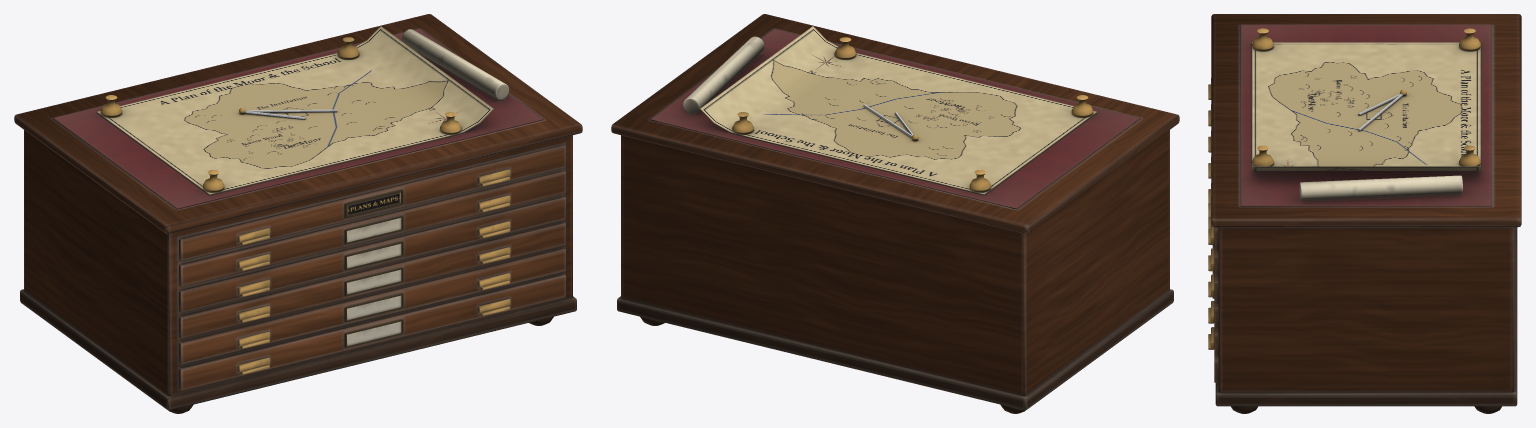
The model's file is MapChest.fbx.
3 renders of one model, left to right at view 1: azimuth 30°, elevation 25°; view 2: azimuth 150°, elevation 25°; view 3: azimuth 270°, elevation 25°, orthographic.
Parts seen in each view (by area): view 1: MapChest; view 2: MapChest; view 3: MapChest.
Part boxes in pixels (x1,y1,x2,y2): MapChest: [14, 14, 582, 413]; MapChest: [611, 14, 1179, 413]; MapChest: [1208, 14, 1521, 413].
Bounding box in the file's own units: 660 × 339 × 424.
